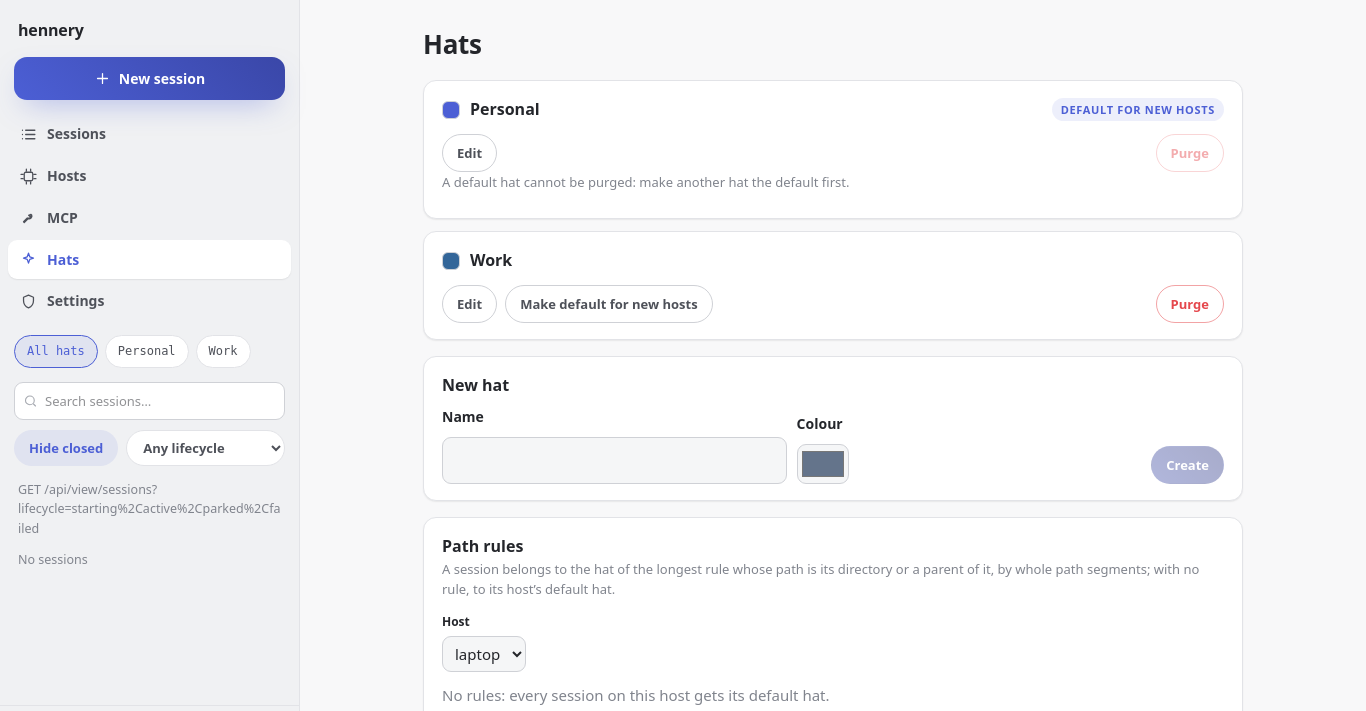
Scenario: the hats › keeps a change that lands while a new hat is being created
Type "Clients" into the field labelled "Name".
click(614, 460); type("Clients")  # box [442,437,787,484]
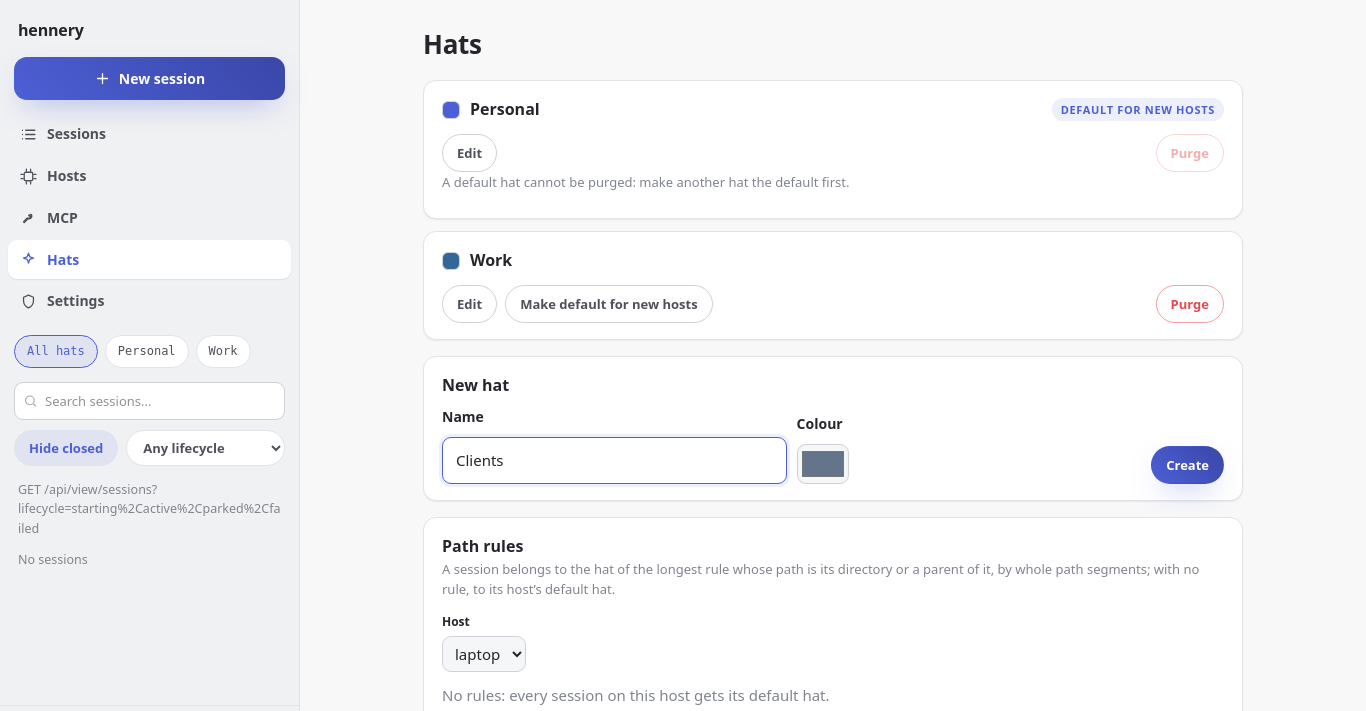
Click the button "Create".
click(1188, 465)  # box [1151,446,1224,484]
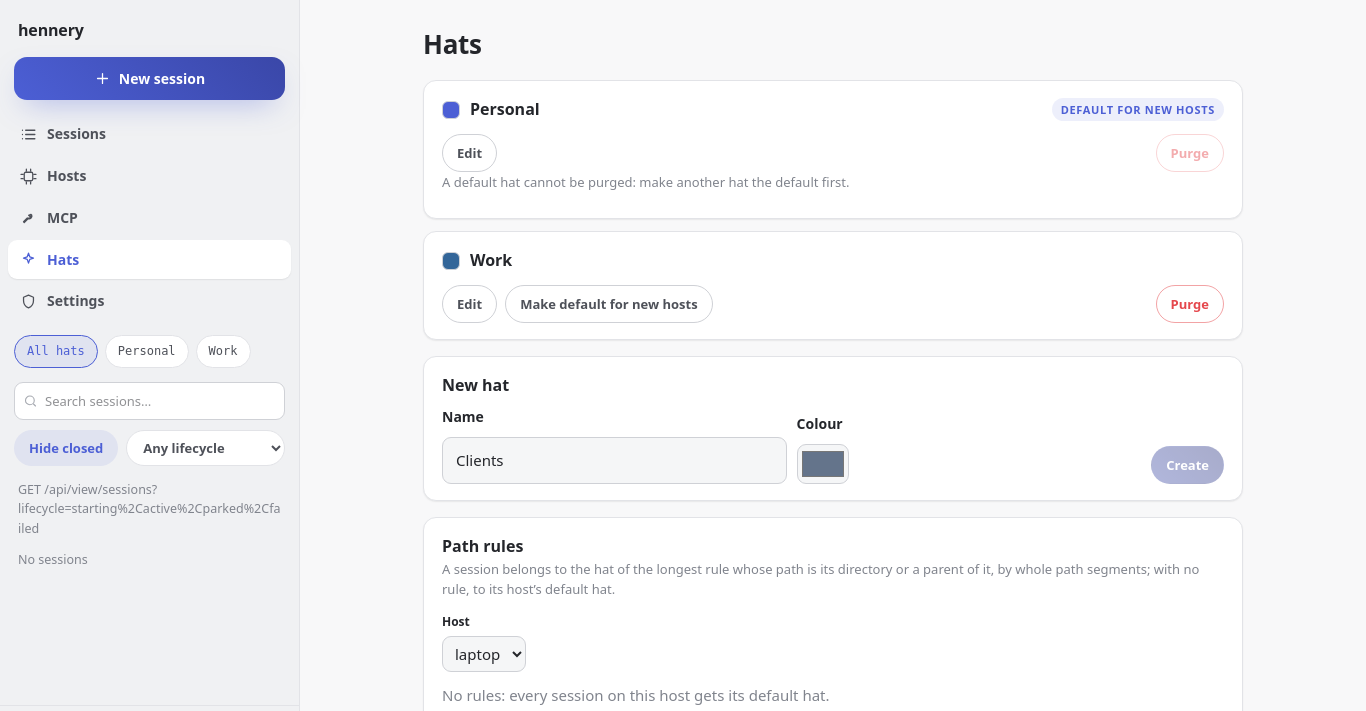
Click the button "Make default for new hosts".
click(609, 304)  # box [505,285,713,323]
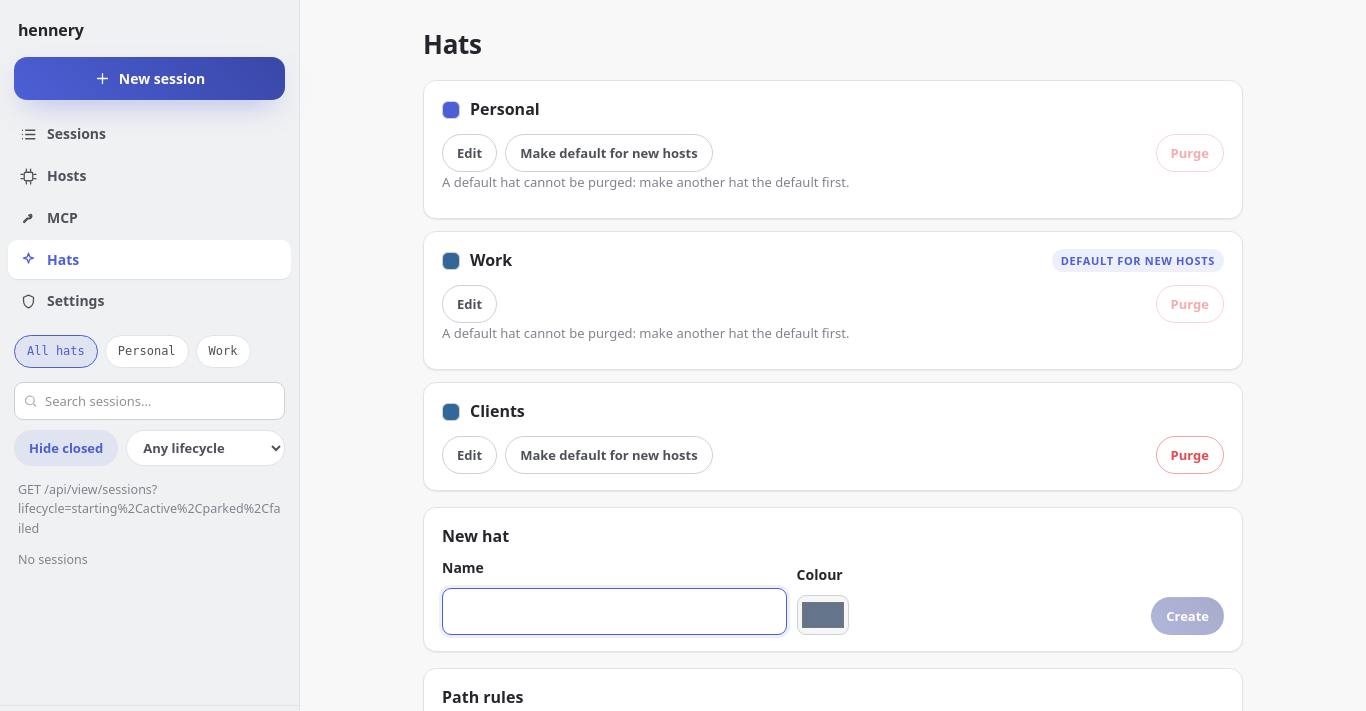
Expected: the text "Default for new hosts" is shown, [1052,249,1224,272]
Now the list item "Clients" is shown, box [423,382,1243,491]
